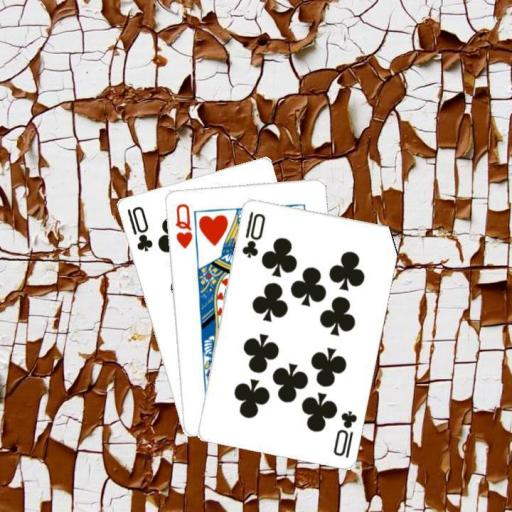card-corner: (123, 203, 154, 253), (330, 407, 358, 459), (238, 208, 267, 258), (172, 200, 194, 250)
